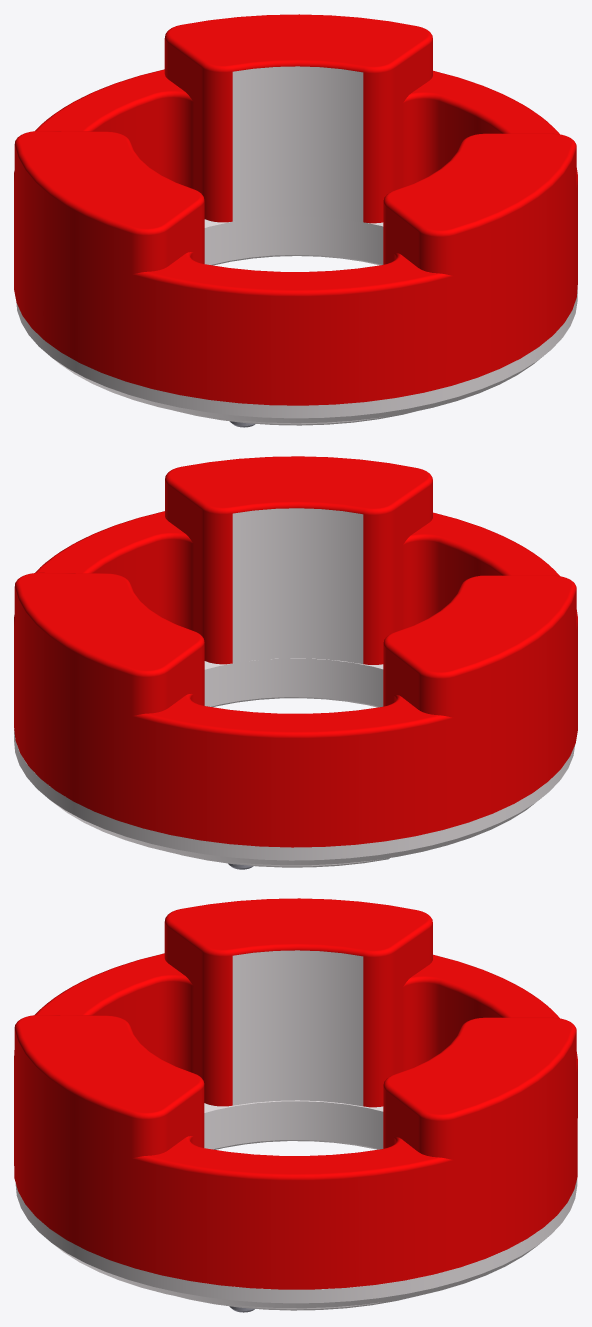
File: Generator_kokusan.fbx
3 views of the same model, one above another, from view 1: azimuth 30°, elevation 25°; view 2: azimuth 150°, elevation 25°; view 3: azimuth 270°, elevation 25° (orthographic).
Parts seen in each view (by area): view 1: ISO 4762 - M6 x 12ISO; view 2: ISO 4762 - M6 x 12ISO; view 3: ISO 4762 - M6 x 12ISO.
Part boxes in pixels (x1,y1,x2,y2): ISO 4762 - M6 x 12ISO: [14, 14, 577, 427]; ISO 4762 - M6 x 12ISO: [14, 456, 577, 869]; ISO 4762 - M6 x 12ISO: [14, 898, 577, 1312].
Bounding box in the file's own units: 11.25 × 4.6 × 11.25.
